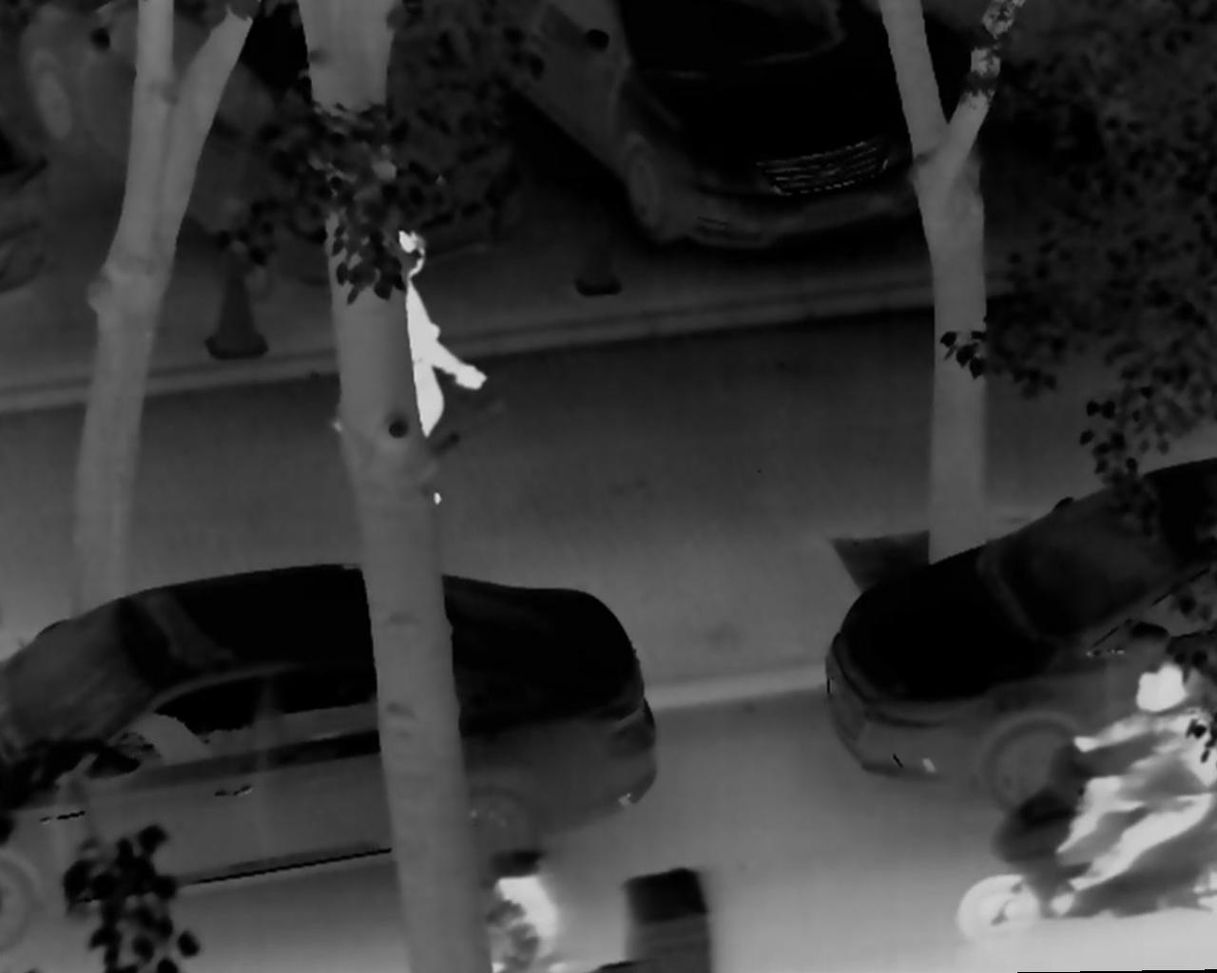person: (1052, 648, 1217, 909), (373, 236, 487, 522), (329, 220, 443, 439), (470, 847, 574, 973)
